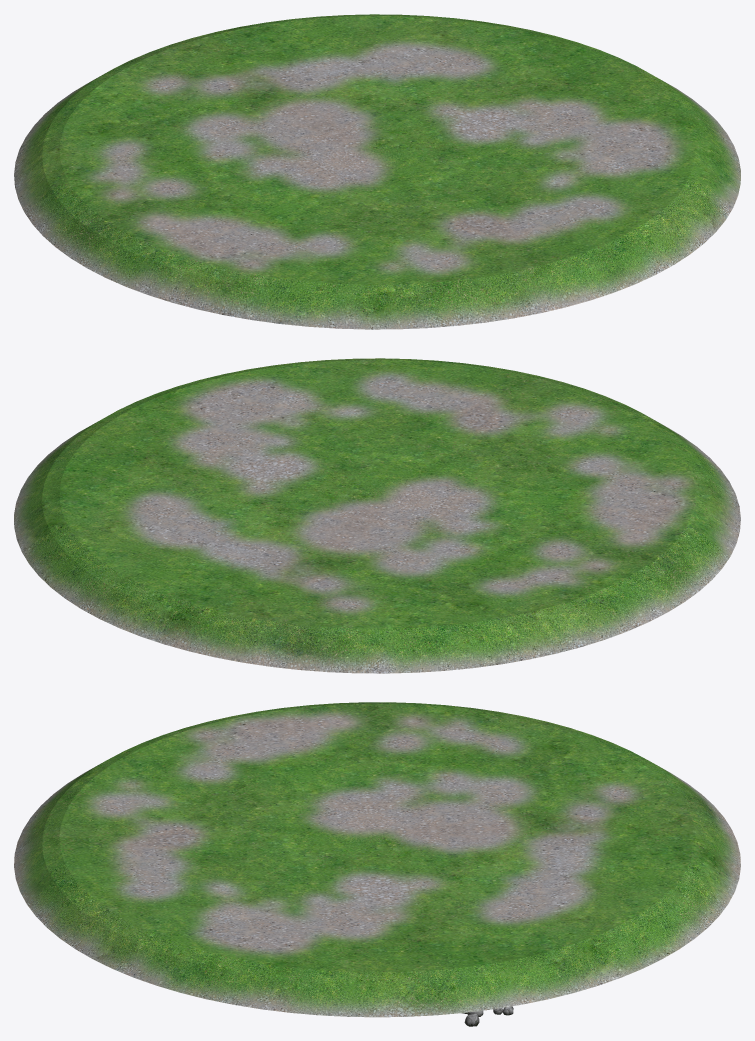
The model's file is rock3.glb.
3 views of the same model, one above another, from view 1: azimuth 30°, elevation 25°; view 2: azimuth 150°, elevation 25°; view 3: azimuth 270°, elevation 25° (orthographic).
Parts seen in each view (by area): view 1: Line002; view 2: Line002; view 3: Line002.
Boxes of the visible parts, x1,y1,x2,y2 form: Line002: (14, 14, 740, 329); Line002: (14, 358, 740, 673); Line002: (14, 702, 740, 1017).
Size of the model in its own units: 341 by 51.12 by 341.
2 materials, 2 textured.
